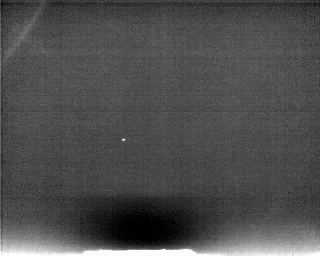BIRD: (118, 136, 128, 146)
